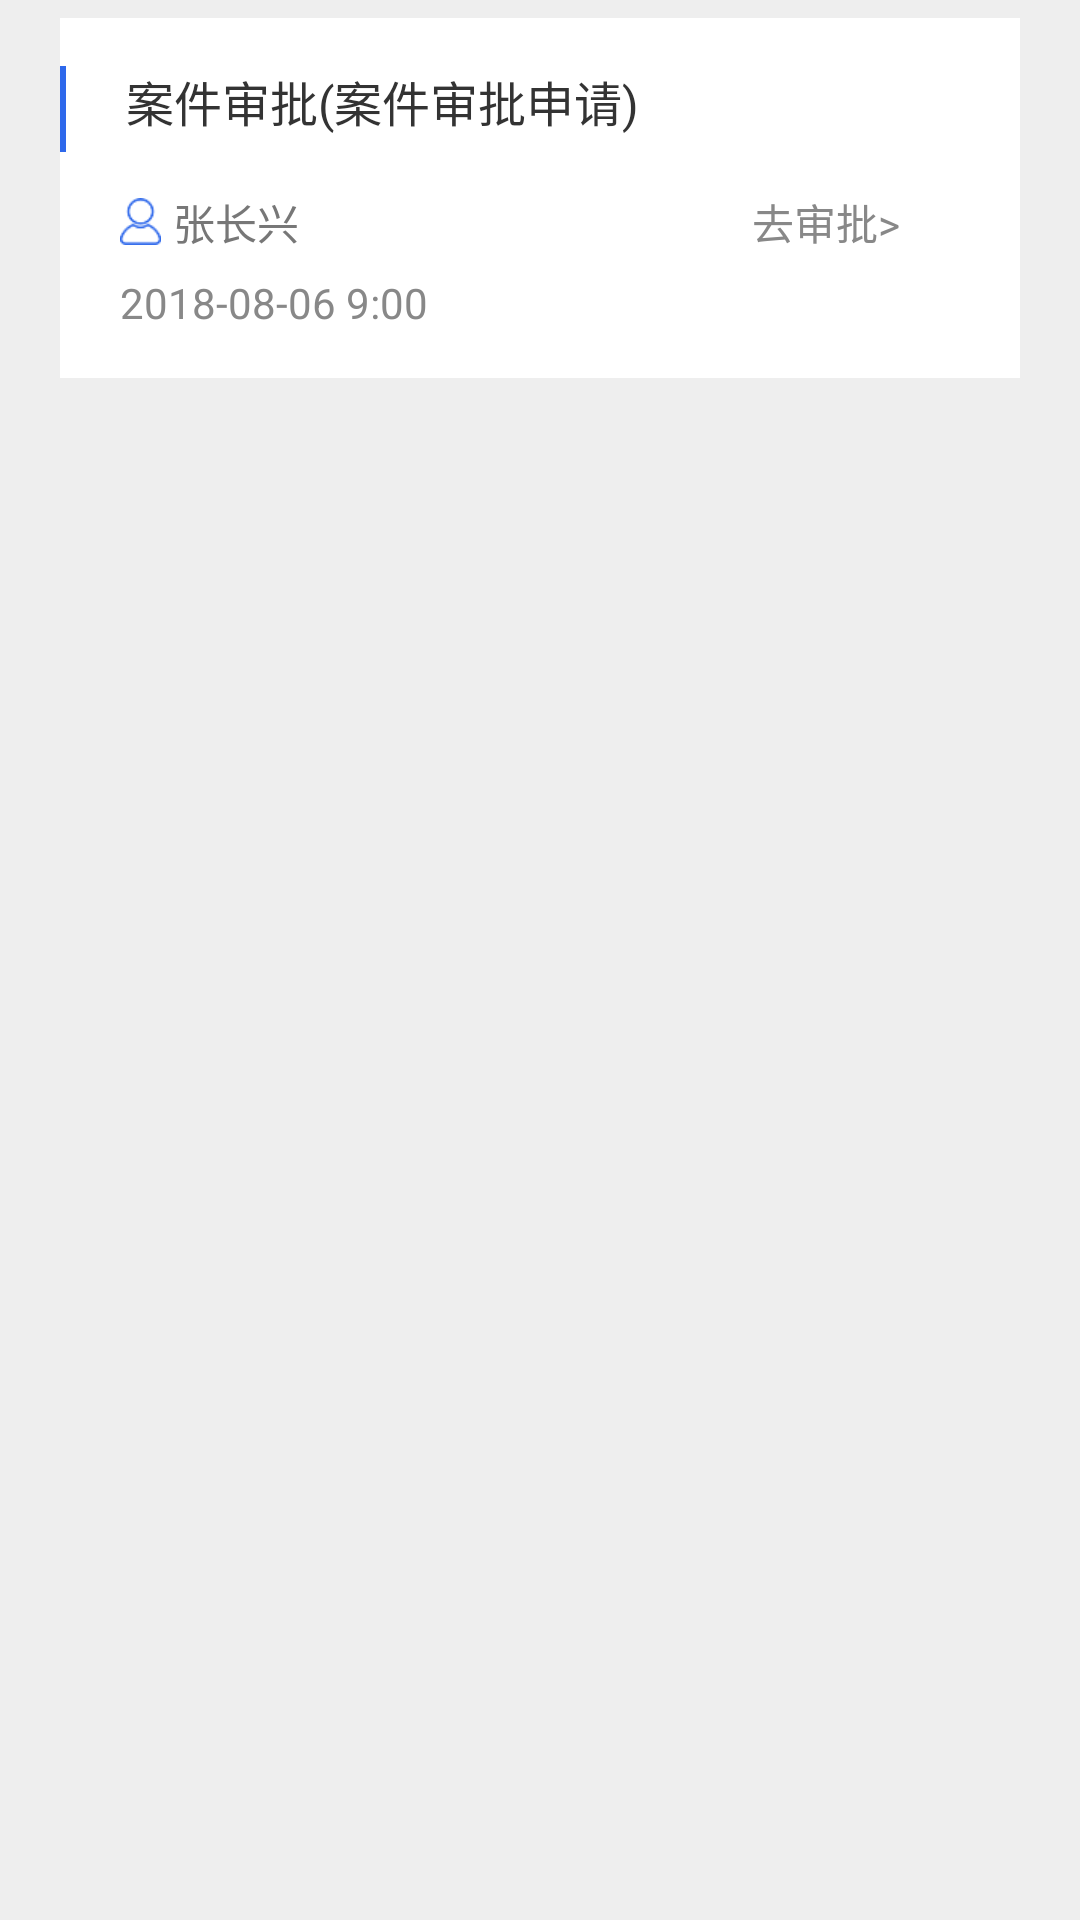

Where to tap for icons on this 1080w x 1920h app screen, as point (x, y):
user: point (140, 221)
